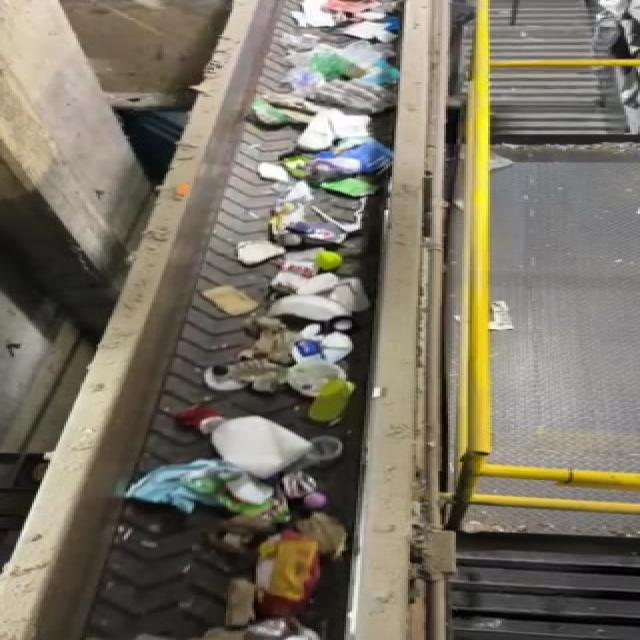hdpe: (172, 401, 310, 478)
paper: (122, 459, 290, 530), (258, 532, 337, 624)
pp: (282, 362, 369, 428), (292, 428, 355, 478)
